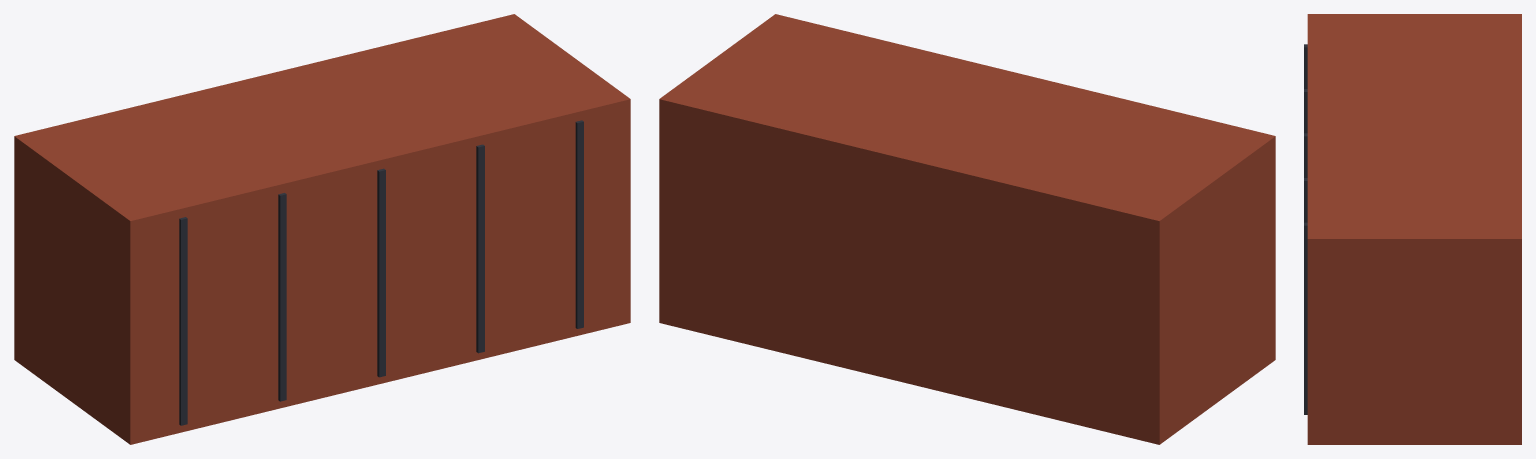
Rendered from container_closed_laterite.glb.
3 renders of one model, left to right at view 1: azimuth 30°, elevation 25°; view 2: azimuth 150°, elevation 25°; view 3: azimuth 270°, elevation 25°, orthographic. The views are drawn at different scales.
Parts seen in each view (by area): view 1: model; view 2: model; view 3: model.
Boxes of the visible parts, x1,y1,x2,y2 form: model: (14, 14, 630, 444); model: (659, 14, 1275, 444); model: (1304, 14, 1521, 444).
Bounding box in the file's own units: 6.06 × 2.59 × 2.48.
